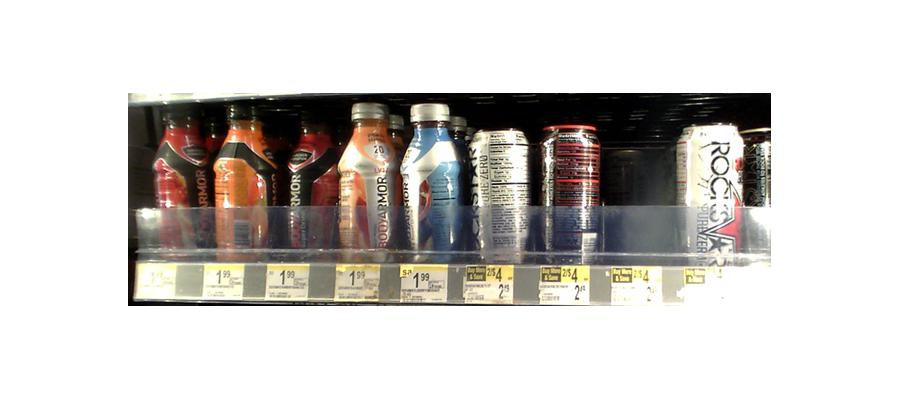bottle: (400, 99, 465, 260), (334, 98, 399, 258), (211, 91, 270, 256), (537, 119, 602, 266), (683, 123, 745, 265), (151, 94, 206, 251), (469, 128, 532, 264), (280, 105, 332, 252)
